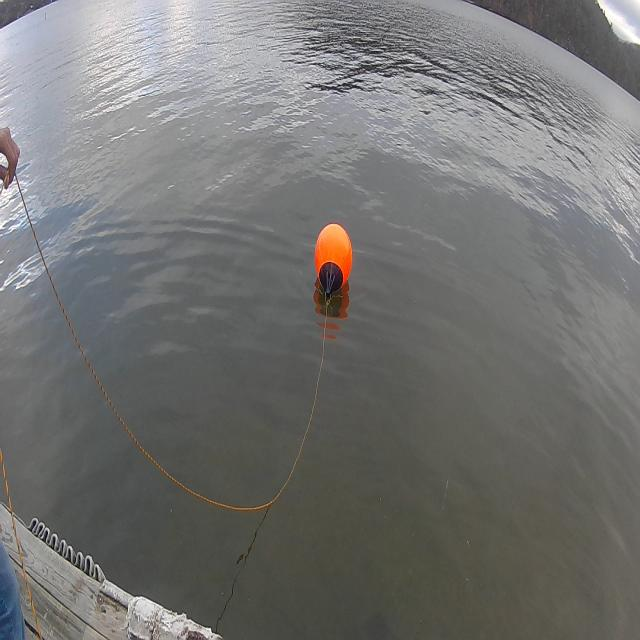Buoy: (312, 218, 356, 314)
